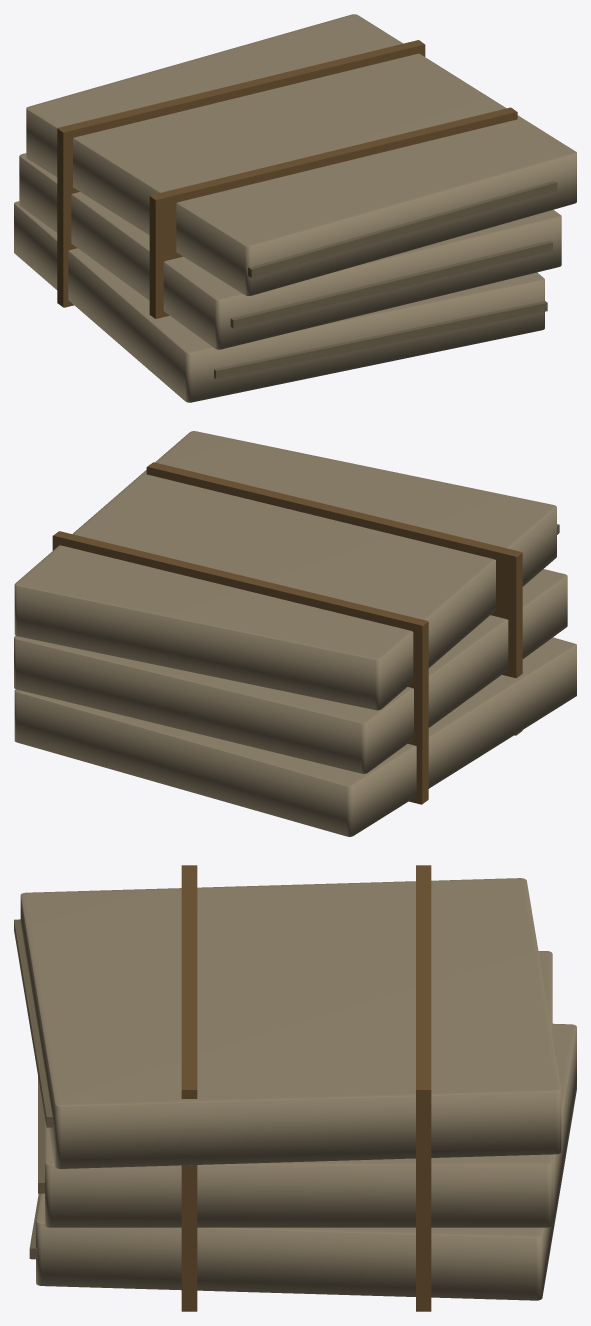
The model's file is stoff_grob.glb.
3 renders of one model, top to bottom at view 1: azimuth 30°, elevation 25°; view 2: azimuth 150°, elevation 25°; view 3: azimuth 270°, elevation 25°, orthographic. The views are drawn at different scales.
Visible parts, largest first — view 1: Cube.004, Cube, Cube.002, Cube.007, Cube.006, Cube.001, Cube.003, Cube.005; view 2: Cube.004, Cube, Cube.002, Cube.007, Cube.006; view 3: Cube.004, Cube, Cube.002, Cube.007, Cube.006, Cube.005, Cube.003.
Boxes of the visible parts, left/top/right/bottom form: Cube.004: left=26, top=14, right=576, bottom=295; Cube: left=14, top=201, right=544, bottom=402; Cube.002: left=19, top=153, right=561, bottom=349; Cube.007: left=57, top=40, right=425, bottom=307; Cube.006: left=149, top=107, right=517, bottom=318; Cube.001: left=214, top=300, right=547, bottom=379; Cube.003: left=230, top=240, right=552, bottom=328; Cube.005: left=248, top=181, right=557, bottom=277; Cube.004: left=14, top=431, right=556, bottom=710; Cube: left=14, top=637, right=576, bottom=836; Cube.002: left=14, top=569, right=567, bottom=773; Cube.007: left=52, top=531, right=428, bottom=804; Cube.006: left=146, top=462, right=522, bottom=735; Cube.004: left=20, top=878, right=561, bottom=1168; Cube: left=36, top=1023, right=576, bottom=1300; Cube.002: left=45, top=951, right=552, bottom=1227; Cube.007: left=416, top=865, right=431, bottom=1311; Cube.006: left=181, top=865, right=197, bottom=1311; Cube.005: left=14, top=919, right=52, bottom=1127; Cube.003: left=38, top=1076, right=44, bottom=1193.
Size of the model in its own units: 0.2891 by 0.126 by 0.2884.
